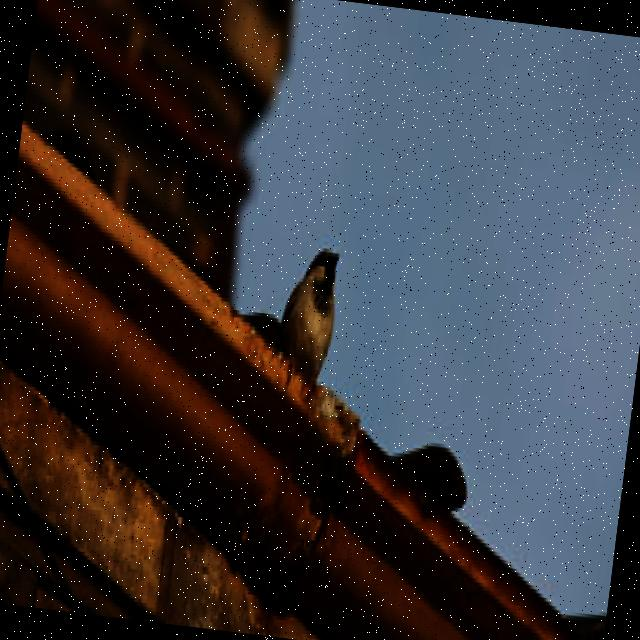bird: (269, 241, 345, 395)
